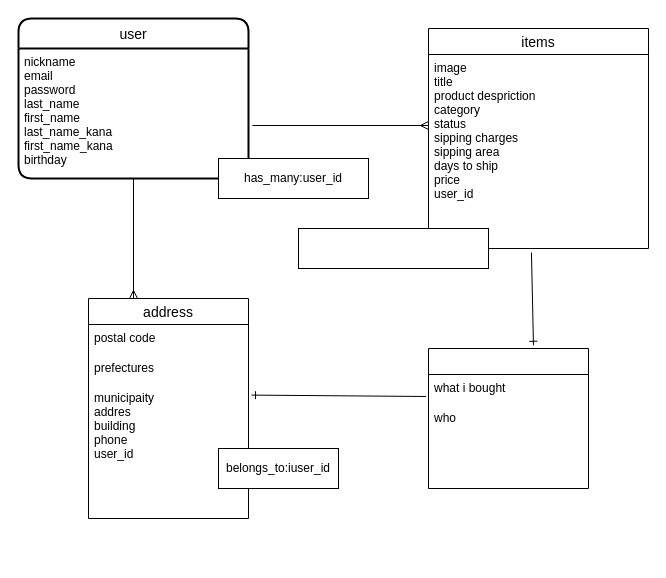
Image size: 666x578. Some labels were removed from this diagram. Each missing label, with the box of its shape:
buy: (428, 348, 588, 488)
has_one:buy: (298, 228, 488, 268)
